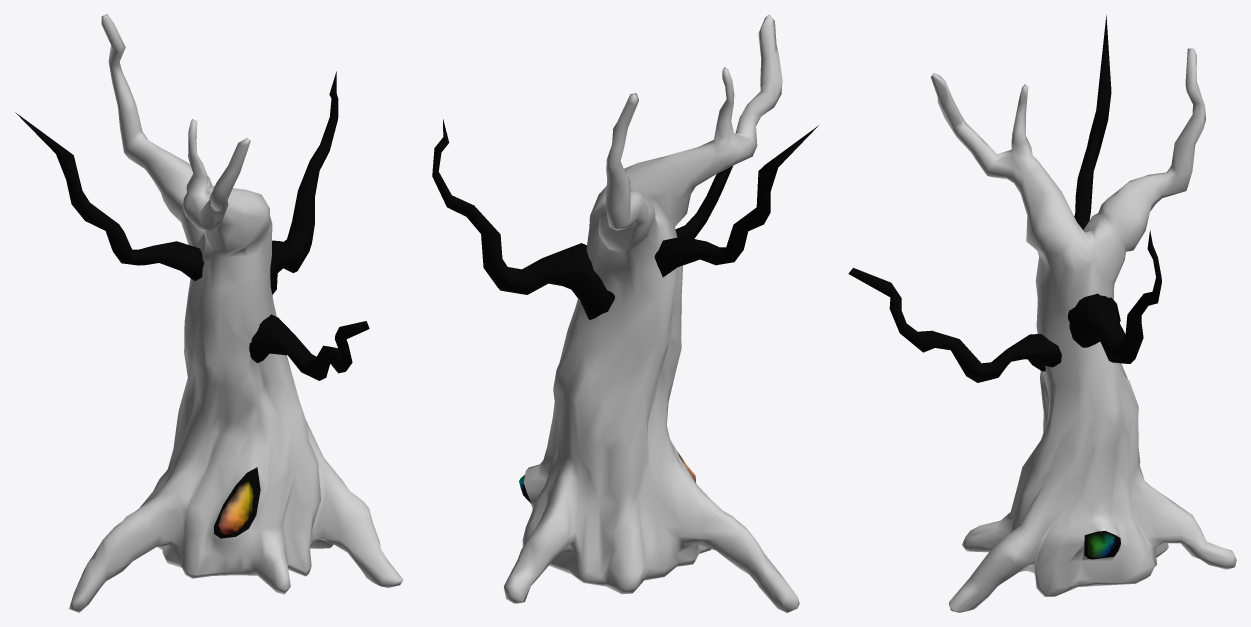
The model's file is TREE 6.fbx.
3 renders of one model, left to right at view 1: azimuth 30°, elevation 25°; view 2: azimuth 150°, elevation 25°; view 3: azimuth 270°, elevation 25°, orthographic. The views are drawn at different scales.
Visible parts, largest first — view 1: tree2; view 2: tree2; view 3: tree2.
Boxes of the visible parts, box(x1,y1,x2,y2) form: tree2: box(15, 14, 403, 612); tree2: box(432, 14, 818, 612); tree2: box(848, 15, 1236, 612).
Bounding box in the file's own units: 2023 × 2922 × 2064.
